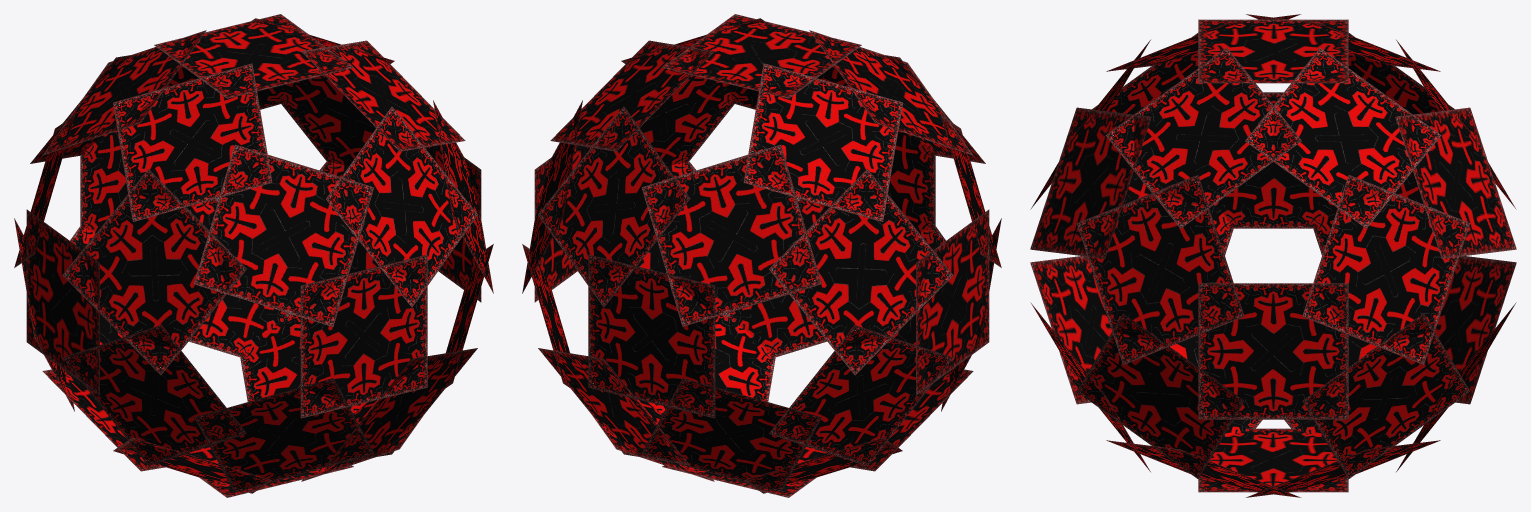
The model's file is 0TruncatedDodecadodecahedron.gltf.
The picture shows the model from 3 angles, left to right: view 1: azimuth 30°, elevation 25°; view 2: azimuth 150°, elevation 25°; view 3: azimuth 270°, elevation 25°; orthographic projection. The views are drawn at different scales.
Parts seen in each view (by area): view 1: 1TruncatedDodecadodecahedron; view 2: 1TruncatedDodecadodecahedron; view 3: 1TruncatedDodecadodecahedron.
Boxes of the visible parts, x1,y1,x2,y2 form: 1TruncatedDodecadodecahedron: [14, 14, 493, 497]; 1TruncatedDodecadodecahedron: [522, 14, 1001, 497]; 1TruncatedDodecadodecahedron: [1030, 14, 1516, 497].
Bounding box in the file's own units: 3.24 × 3.24 × 3.24.
Materials: 1 (1 with a texture image).
